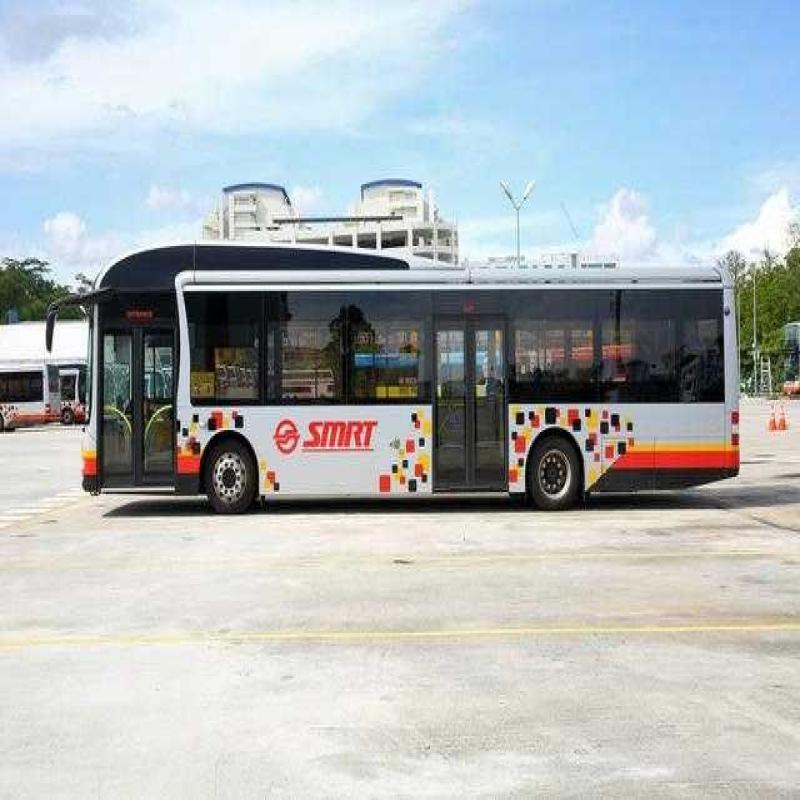bus: (48, 217, 761, 535)
